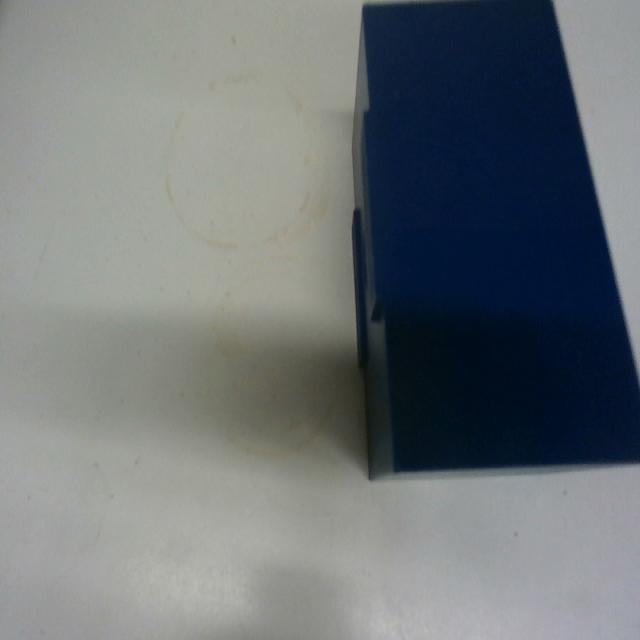Blue Cuboid: (348, 0, 639, 481)
